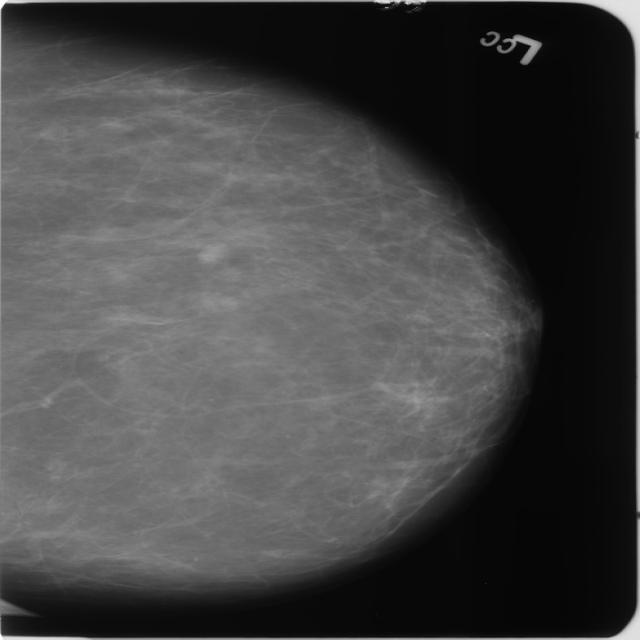tumour: (193, 240, 224, 262)
